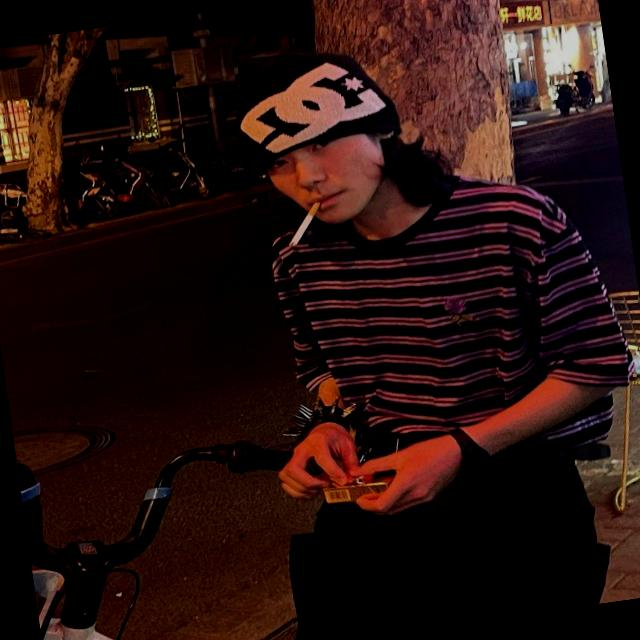smoke: (282, 198, 341, 252)
